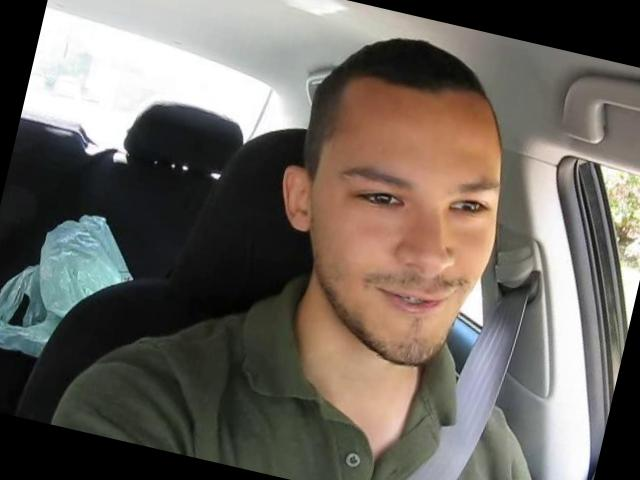eye_open: (346, 179, 410, 218), (446, 188, 495, 225)
face: (288, 132, 515, 382)
